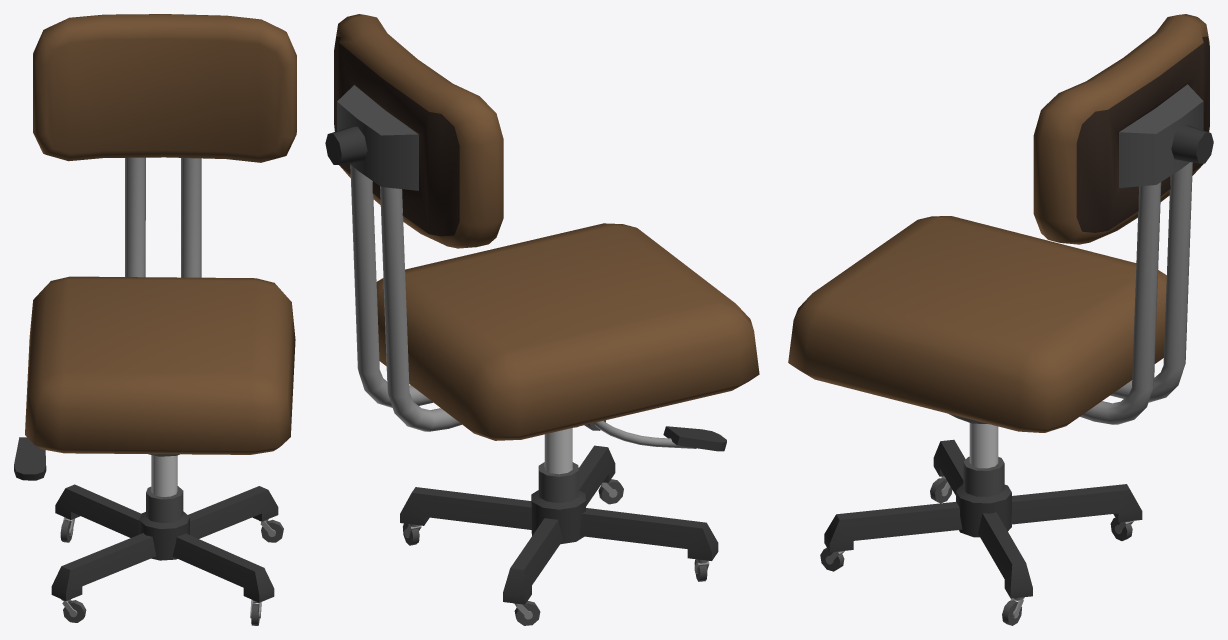
The model's file is Chair.fbx.
3 renders of one model, left to right at view 1: azimuth 30°, elevation 25°; view 2: azimuth 150°, elevation 25°; view 3: azimuth 270°, elevation 25°, orthographic. The views are drawn at different scales.
Parts seen in each view (by area): view 1: Cube.004; view 2: Cube.004; view 3: Cube.004.
Part boxes in pixels (left/top/right/bottom): Cube.004: left=14, top=14, right=296, bottom=625; Cube.004: left=325, top=14, right=759, bottom=625; Cube.004: left=788, top=14, right=1213, bottom=625.
Bounding box in the file's own units: 95.77 × 141 × 100.
